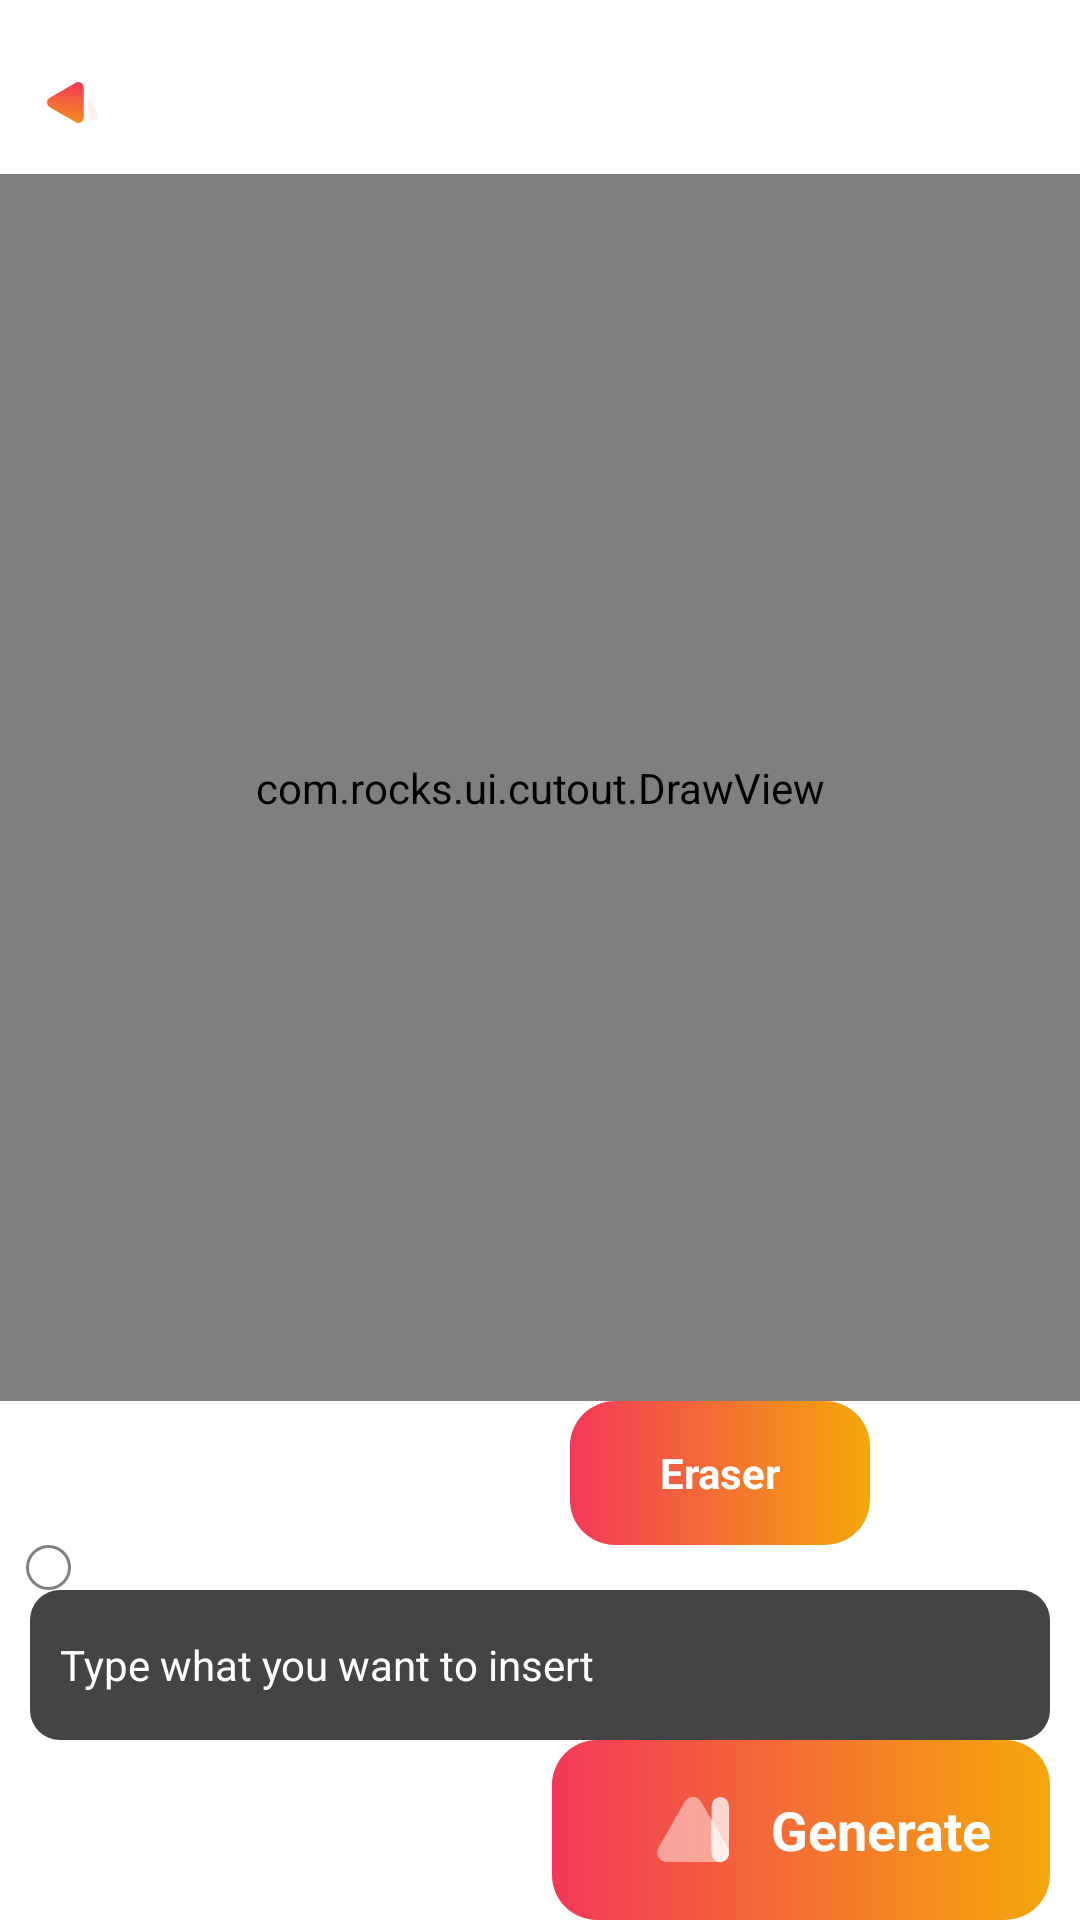

Icon bounding boxes for this 1080*1920 phone screenshot, format (x1, y1, x2, y2):
back: (47, 82, 84, 123)
